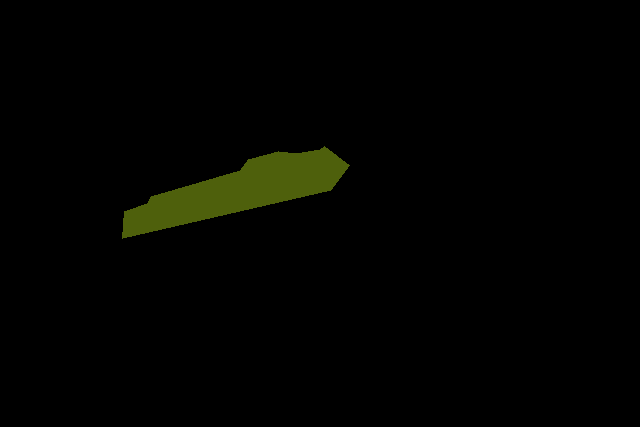Train: (122, 146, 349, 239)
